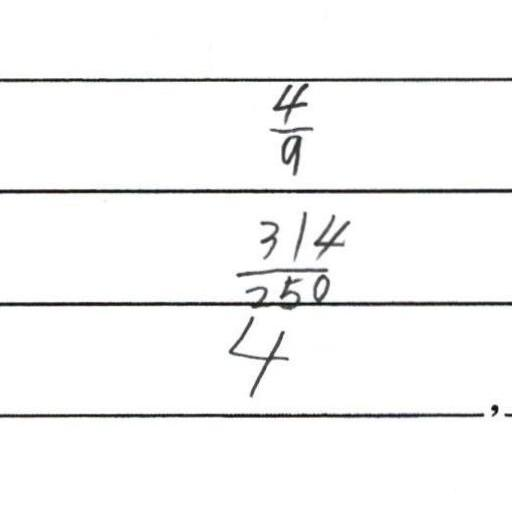ans: (233, 207, 351, 306), (225, 315, 293, 399), (262, 77, 315, 176)
